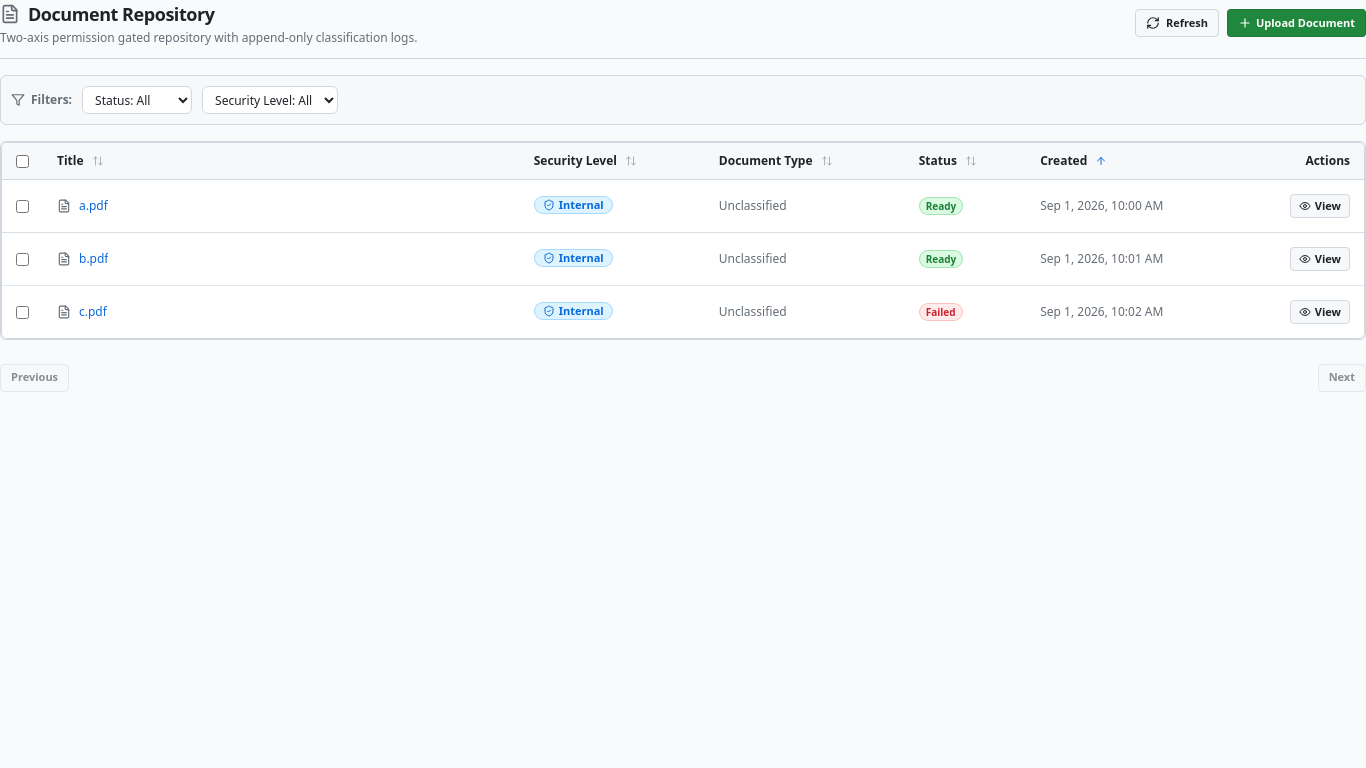
Test: DocumentsPage — deletion › asks for confirmation before deleting
This screenshot has width=1366, height=768.
Expected: the table with test id "documents-table" is shown, [2,143,1364,338]
Click the checkbox named "Select a.pdf".
click(22, 206)  # box [16,200,29,213]
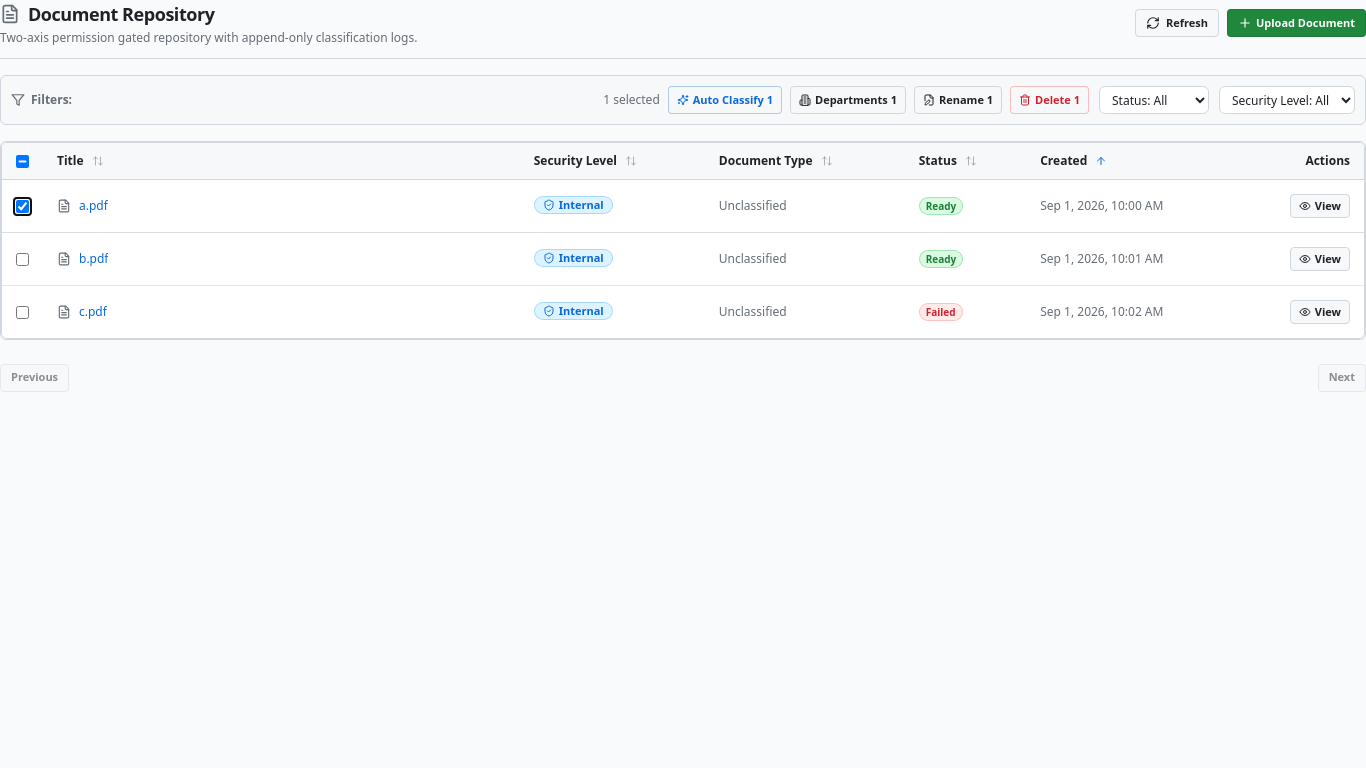
Click the button with test id "delete-selected".
click(1050, 100)  # box [1010,86,1089,114]
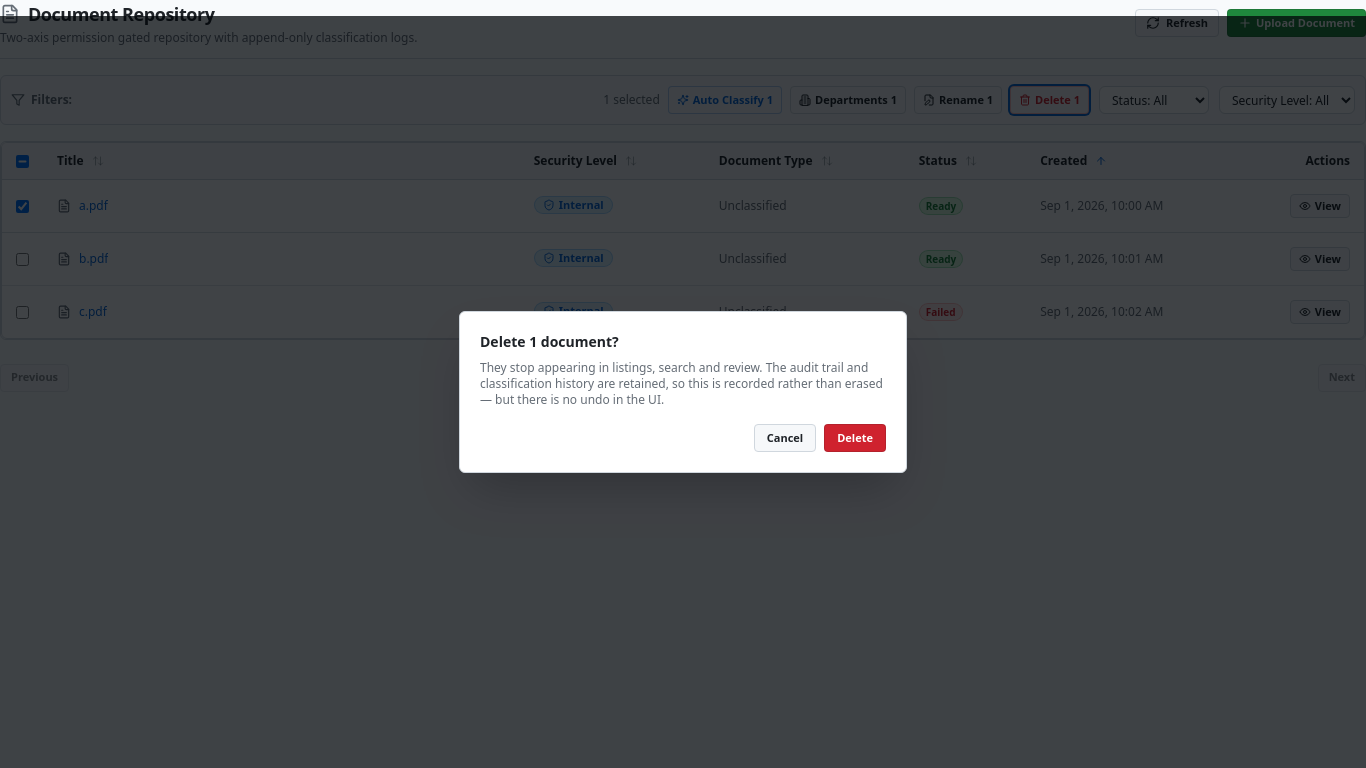
Now the button with test id "confirm-delete" is shown, box [824,424,886,452]
